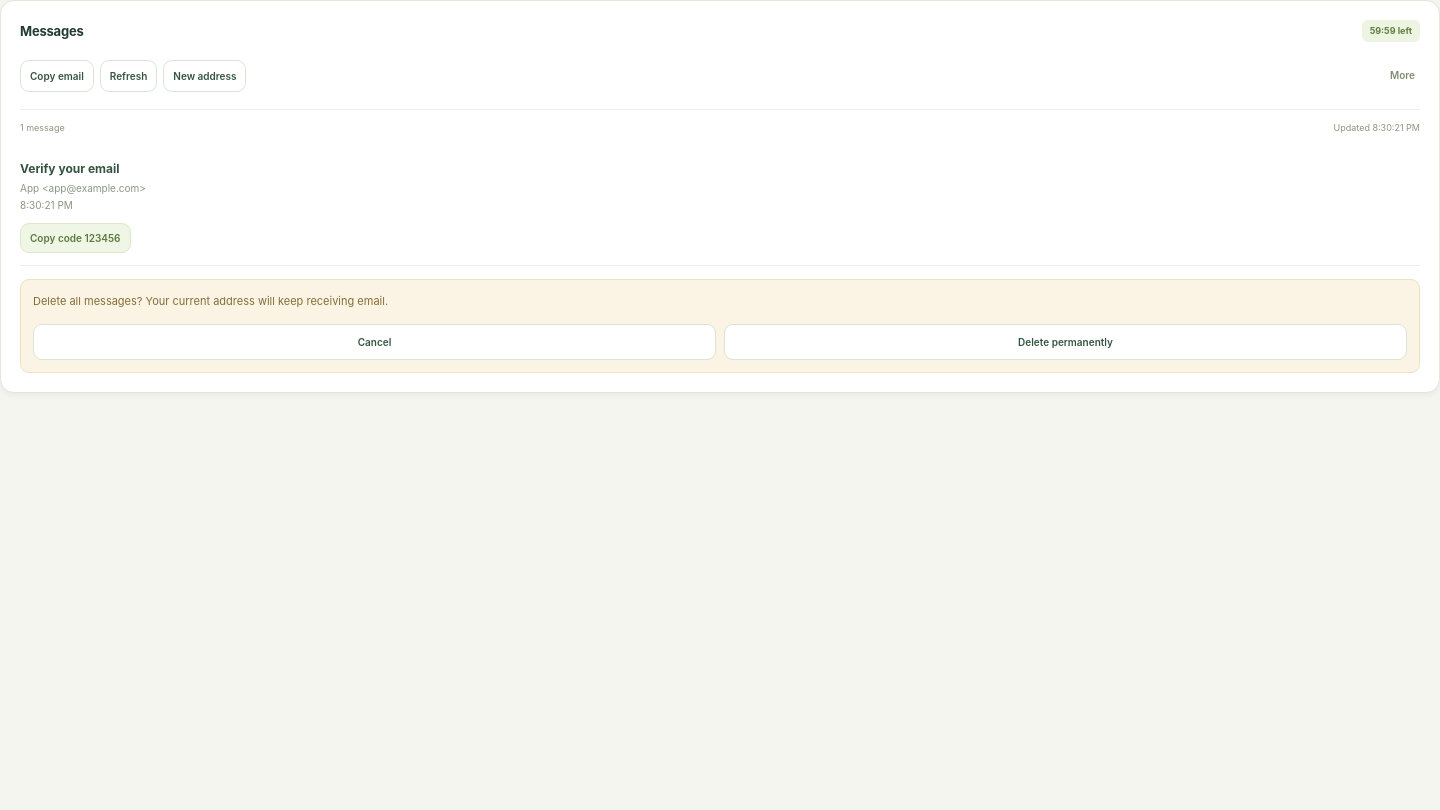
compact inbox controls › requires confirmation to clear messages and preserves the mailbox
Earlier steps of the test are not shown.
Expected: the text "Your current address will keep receiving" is shown, [33,294,388,308]
What coordinates should you click on to do the following:
click the button "Delete permanently"
I would click on:
 (1066, 342)
Its box is [724,324,1407,360].
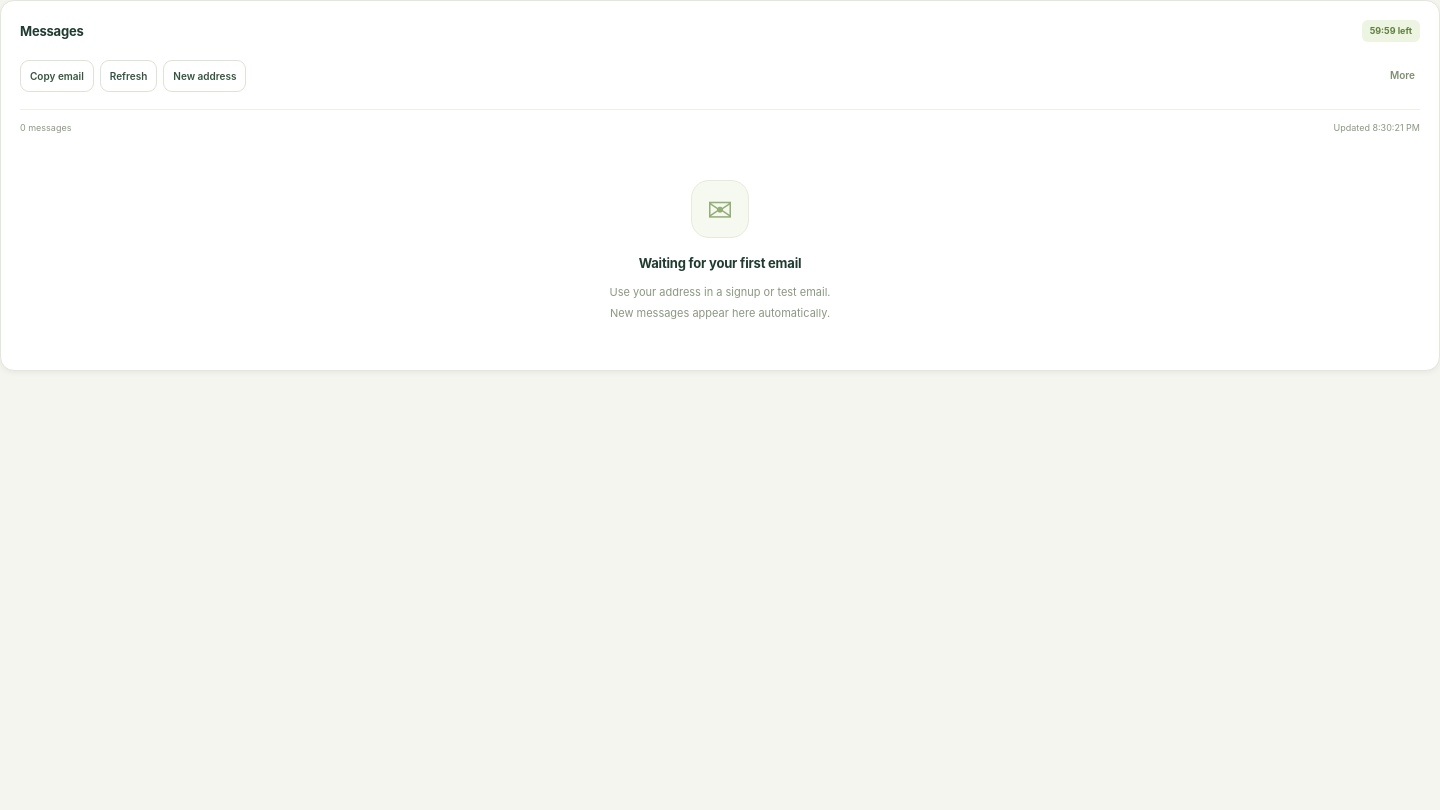
Expected: the text "Waiting for your first email" is shown, [639,255,801,271]
